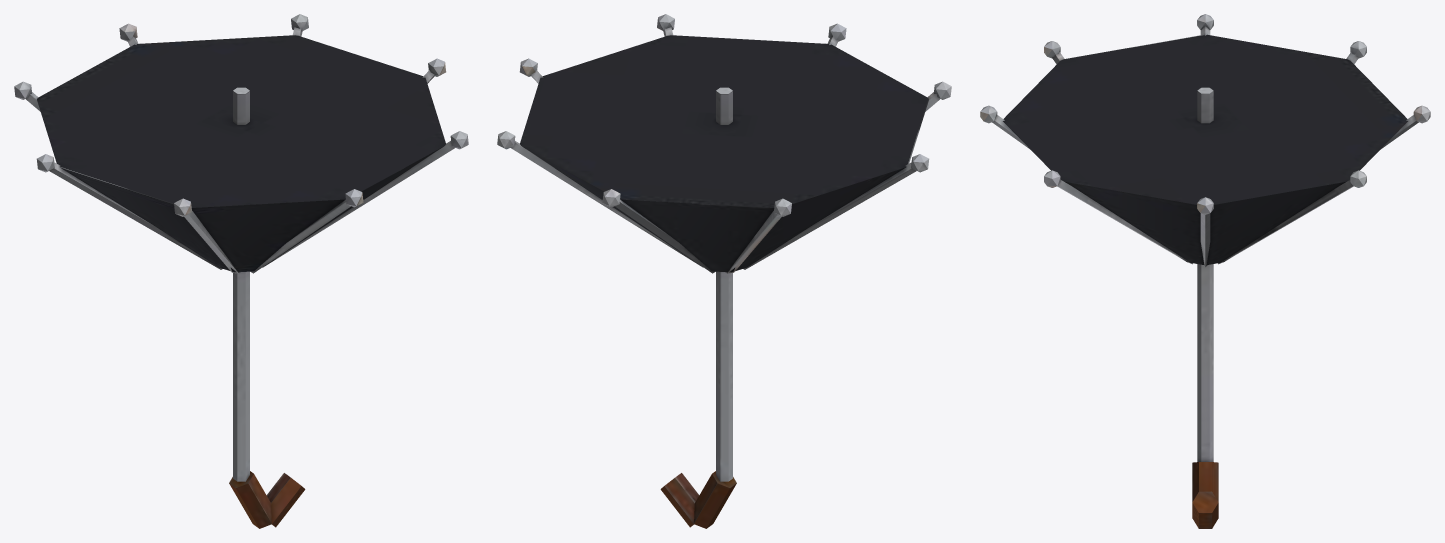
File: paraguas_volando.glb
3 renders of one model, left to right at view 1: azimuth 30°, elevation 25°; view 2: azimuth 150°, elevation 25°; view 3: azimuth 270°, elevation 25°, orthographic. The views are drawn at different scales.
Parts seen in each view (by area): view 1: paraguas_volando; view 2: paraguas_volando; view 3: paraguas_volando.
Boxes of the visible parts, box(x1,y1,x2,y2) form: paraguas_volando: box(14, 14, 468, 528); paraguas_volando: box(497, 14, 951, 528); paraguas_volando: box(980, 14, 1430, 528).
Bounding box in the file's own units: 1.37 × 1.42 × 1.37.
Materials: 1 (1 with a texture image).
